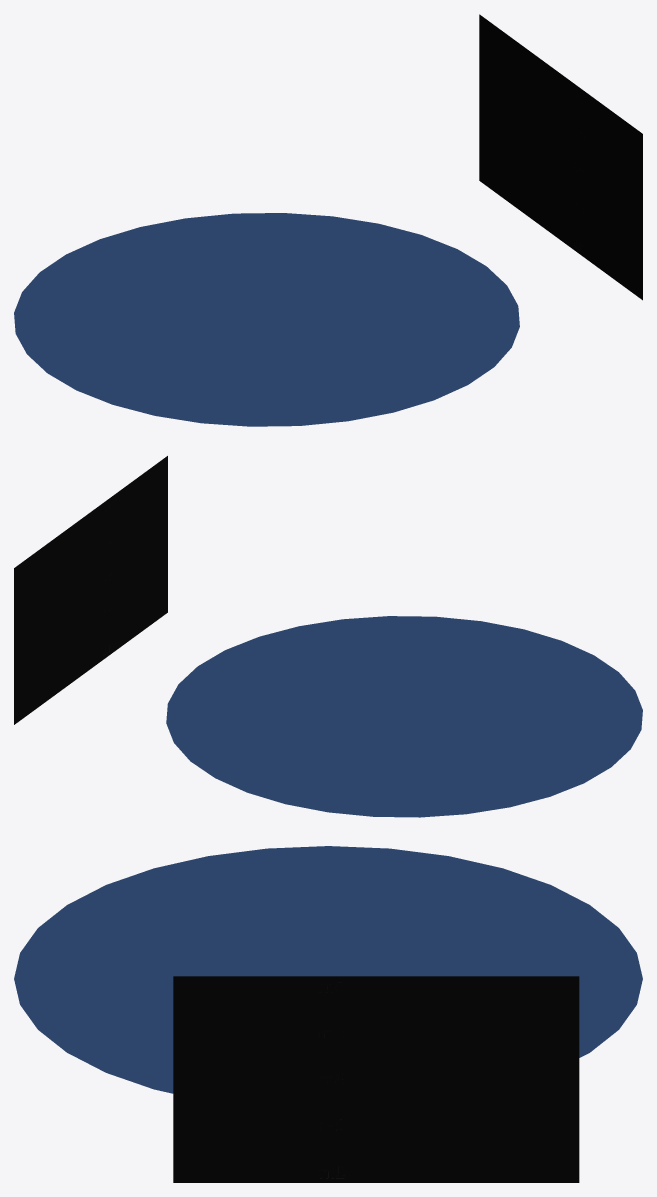
The model's file is water.fbx.
3 views of the same model, one above another, from view 1: azimuth 30°, elevation 25°; view 2: azimuth 150°, elevation 25°; view 3: azimuth 270°, elevation 25° (orthographic). The views are drawn at different scales.
Visible parts, largest first — view 1: Cylinder, 5m 4m 3m 2m 1m (2); view 2: Cylinder, 5m 4m 3m 2m 1m (2); view 3: 5m 4m 3m 2m 1m (2), Cylinder.
Part boxes in pixels (x1,y1,x2,y2): Cylinder: (14,213,519,426); 5m 4m 3m 2m 1m (2): (479,14,642,300); Cylinder: (166,616,642,817); 5m 4m 3m 2m 1m (2): (14,456,167,724); 5m 4m 3m 2m 1m (2): (173,976,579,1182); Cylinder: (14,846,642,1093).
Bounding box in the file's own units: 2475 × 739 × 2038.
